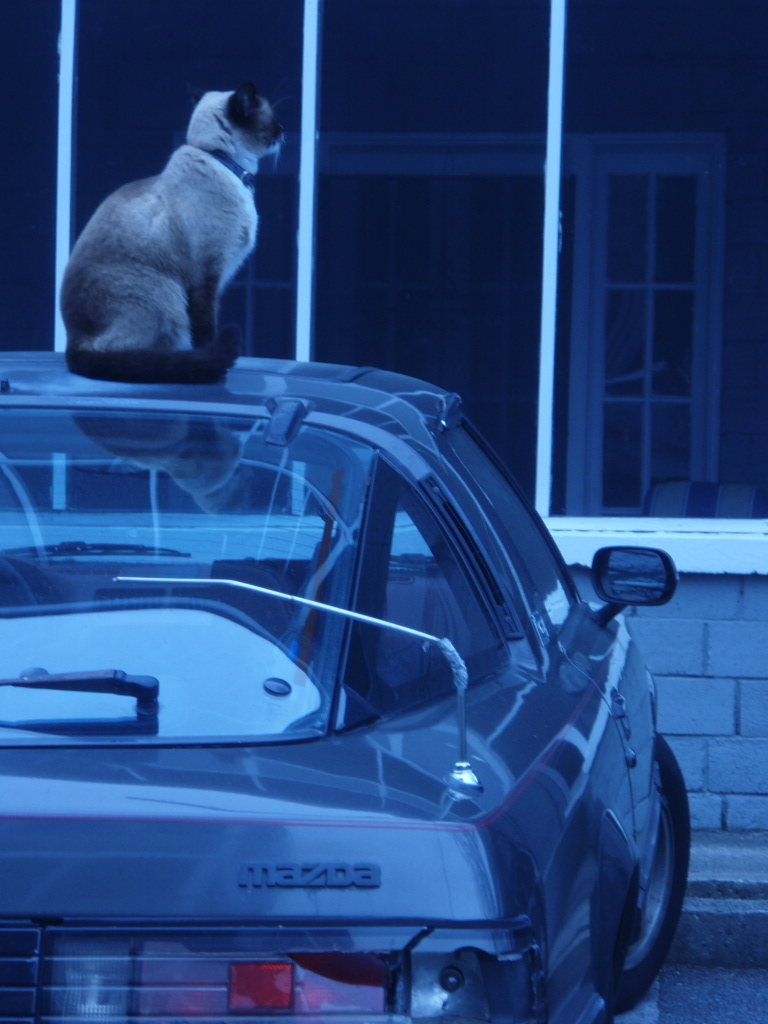Car: (0, 344, 687, 1022)
